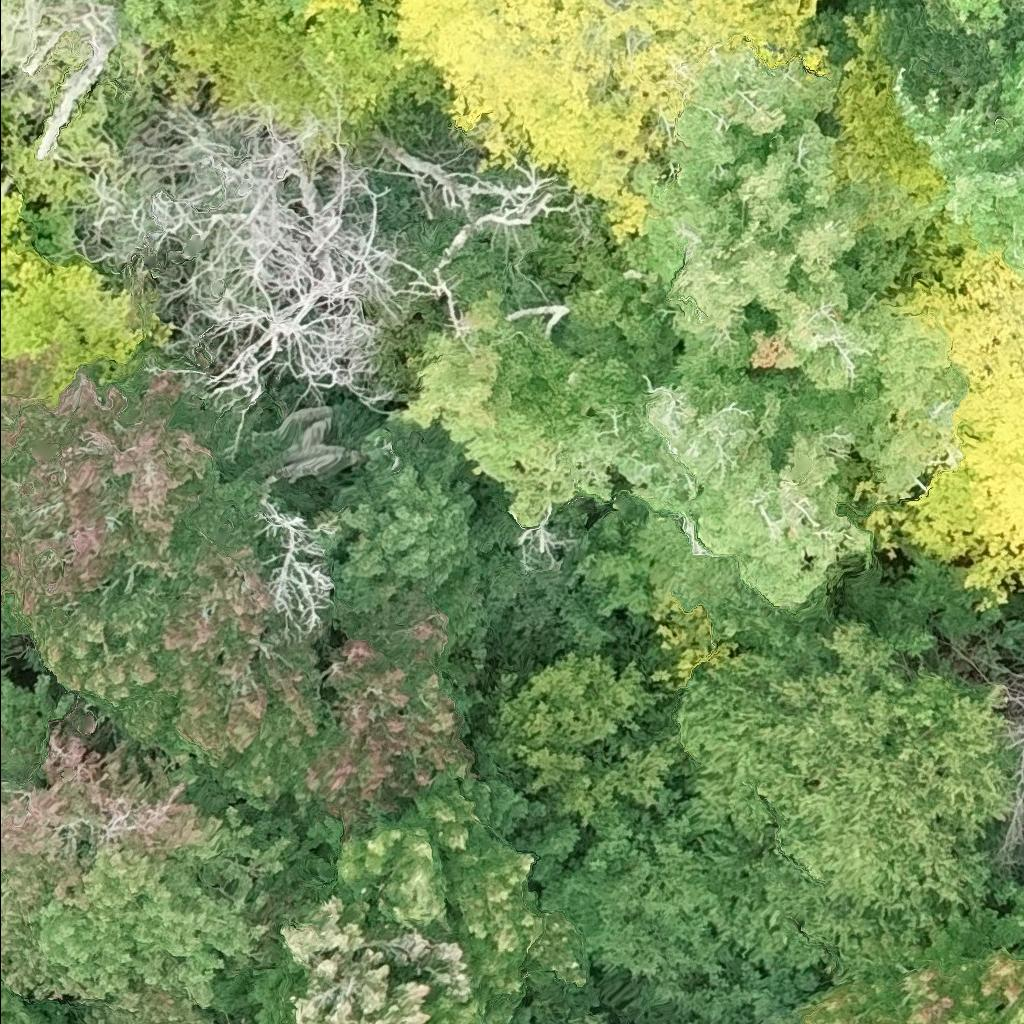crown: (76, 92, 475, 467), (675, 602, 1012, 978), (0, 666, 320, 1023), (24, 454, 337, 818), (394, 0, 830, 247), (241, 762, 592, 1023), (630, 51, 879, 383), (853, 244, 1023, 615), (0, 357, 224, 627), (406, 286, 641, 525), (292, 575, 476, 851), (0, 133, 141, 400), (359, 121, 610, 258), (794, 881, 1023, 1023), (892, 32, 1023, 267), (991, 654, 1023, 869), (115, 0, 183, 41), (943, 0, 1010, 36), (304, 0, 365, 25), (572, 1010, 610, 1023), (375, 0, 389, 3)
